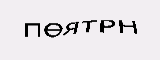Н: (119, 16, 140, 37)
П: (21, 20, 43, 39)
Р: (98, 16, 115, 37)
Т: (81, 18, 97, 33)
Я: (63, 19, 80, 38)
Ө: (43, 19, 62, 42)
